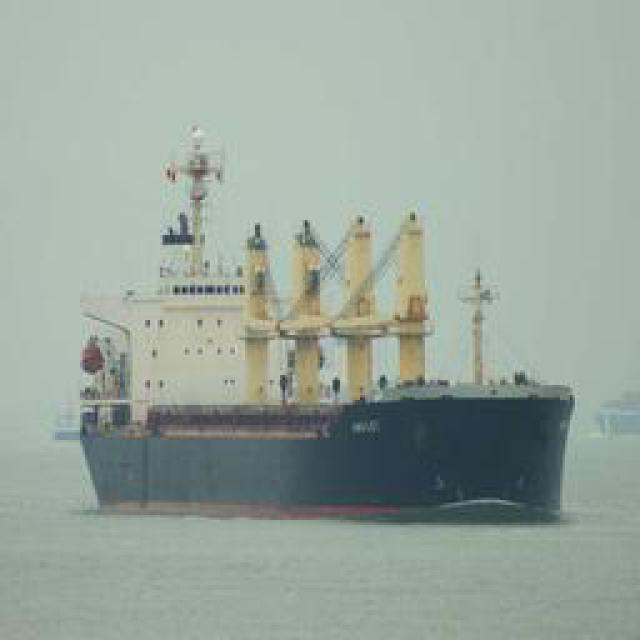Ship: (43, 120, 582, 530)
